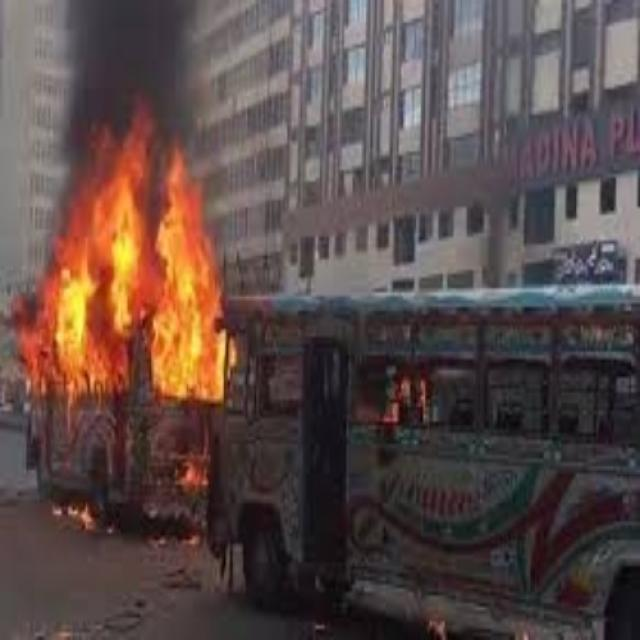Fire: (14, 94, 233, 400), (353, 366, 438, 430), (44, 491, 98, 530), (172, 456, 216, 496)
Smoke: (54, 0, 204, 160)
